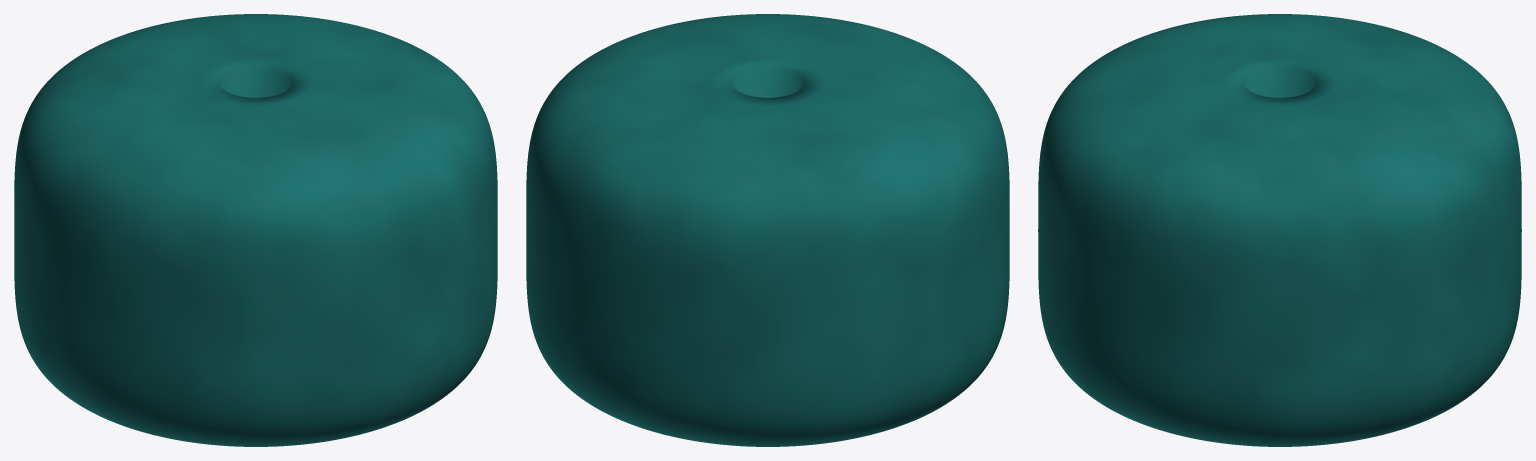
File: barrel.glb
3 renders of one model, left to right at view 1: azimuth 30°, elevation 25°; view 2: azimuth 150°, elevation 25°; view 3: azimuth 270°, elevation 25°, orthographic.
Visible parts, largest first — view 1: 桶珠; view 2: 桶珠; view 3: 桶珠.
Part boxes in pixels (x1=…): 桶珠: x1=14, y1=14, x2=497, y2=446; 桶珠: x1=526, y1=14, x2=1009, y2=446; 桶珠: x1=1038, y1=14, x2=1521, y2=446.
Size of the model in its own units: 0.008 by 0.0054 by 0.008.
